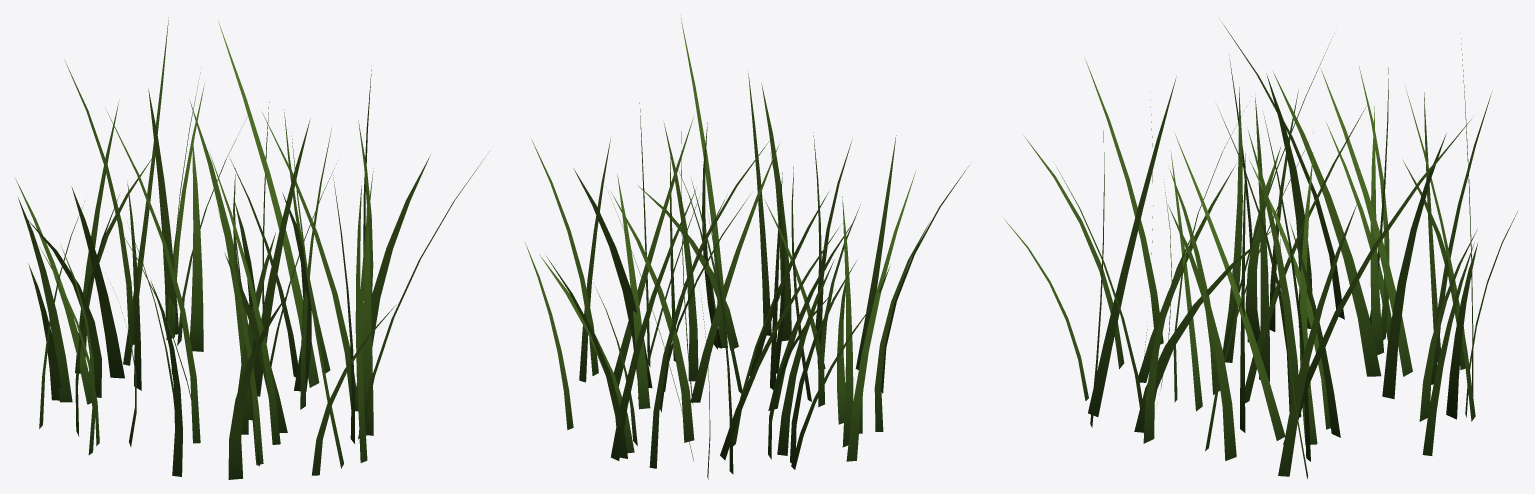
Rendered from tuft_1_lod0.glb.
3 views of the same model, side by side, from view 1: azimuth 30°, elevation 25°; view 2: azimuth 150°, elevation 25°; view 3: azimuth 270°, elevation 25° (orthographic). The views are drawn at different scales.
Parts seen in each view (by area): view 1: GrassTuft_1_LOD0; view 2: GrassTuft_1_LOD0; view 3: GrassTuft_1_LOD0.
Part boxes in pixels (left/top/right/bottom): GrassTuft_1_LOD0: left=15, top=17, right=489, bottom=479; GrassTuft_1_LOD0: left=525, top=17, right=969, bottom=479; GrassTuft_1_LOD0: left=1003, top=23, right=1517, bottom=478.
Size of the model in its own units: 0.361 by 0.2894 by 0.4058.
